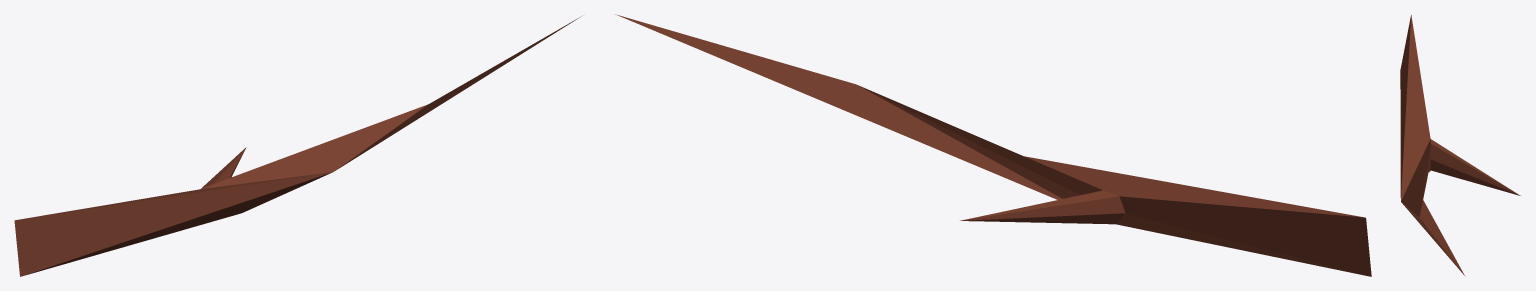
File: pine_branch_type_4_LOD1.fbx
3 renders of one model, left to right at view 1: azimuth 30°, elevation 25°; view 2: azimuth 150°, elevation 25°; view 3: azimuth 270°, elevation 25°, orthographic. The views are drawn at different scales.
Parts seen in each view (by area): view 1: Circle.033; view 2: Circle.033; view 3: Circle.033.
Boxes of the visible parts, x1,y1,x2,y2 form: Circle.033: [14, 16, 581, 276]; Circle.033: [615, 14, 1371, 276]; Circle.033: [1400, 15, 1520, 276].
Bounding box in the file's own units: 310 × 47.06 × 51.62.
